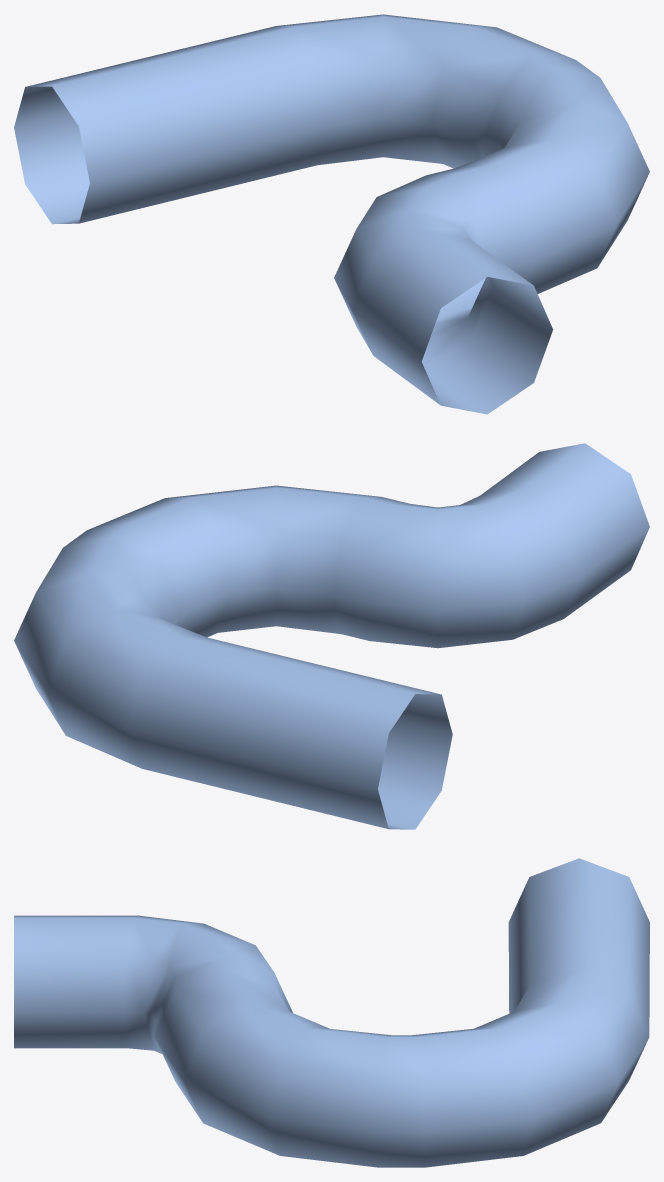
Rendered from PipeSmall_BentSpecial_05.fbx.
3 views of the same model, one above another, from view 1: azimuth 30°, elevation 25°; view 2: azimuth 150°, elevation 25°; view 3: azimuth 270°, elevation 25° (orthographic). The views are drawn at different scales.
Visible parts, largest first — view 1: PipeSmall_BentSpecial_05.001; view 2: PipeSmall_BentSpecial_05.001; view 3: PipeSmall_BentSpecial_05.001.
Part boxes in pixels (x1,y1,x2,y2): PipeSmall_BentSpecial_05.001: (14, 14, 649, 414); PipeSmall_BentSpecial_05.001: (14, 443, 649, 829); PipeSmall_BentSpecial_05.001: (14, 858, 649, 1167).
Bounding box in the file's own units: 0.3496 × 0.1 × 0.45.
